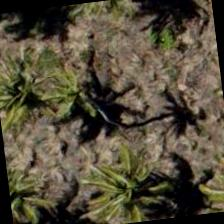Kelapa_Sawit: (74, 134, 175, 223)
